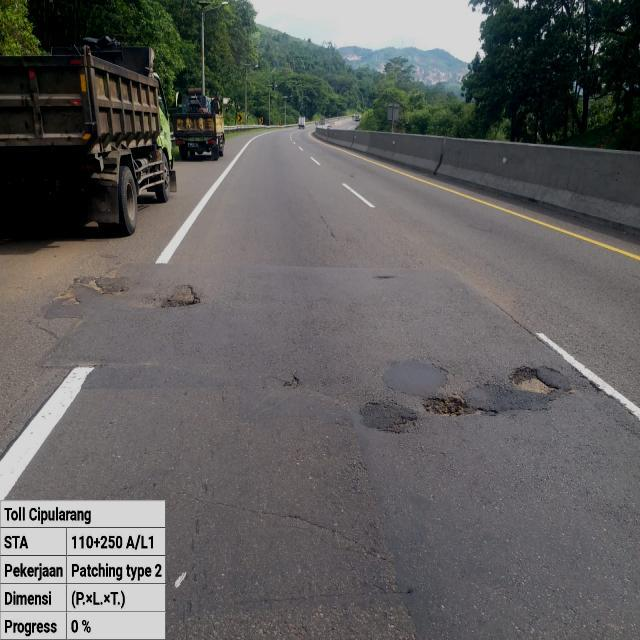Buraco: (417, 391, 501, 420), (505, 364, 563, 398), (72, 276, 132, 300), (156, 282, 204, 310)
